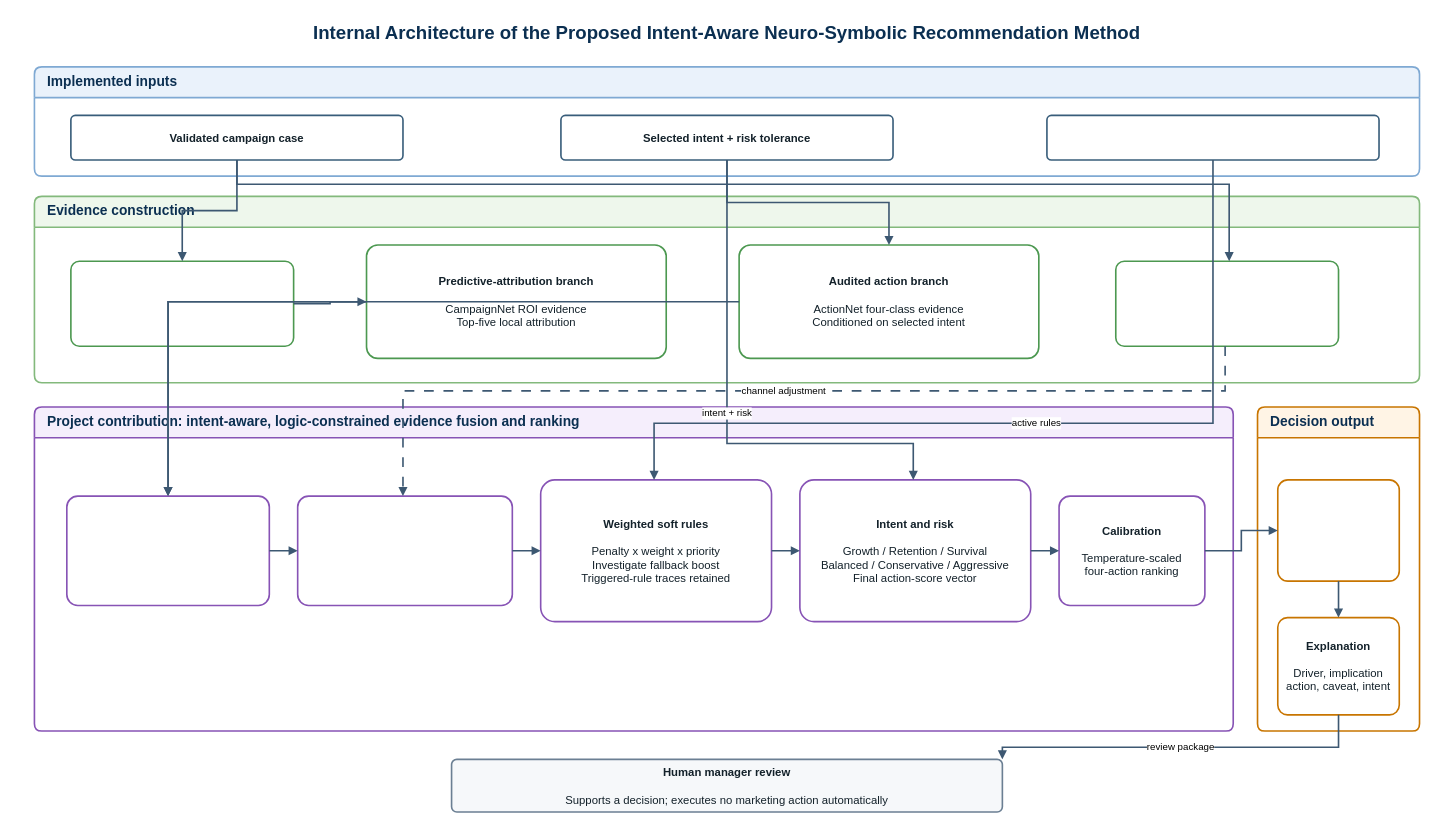
The diagram is 1453 pixels wide and 826 high, and some of its shapes have lost their labels. Each missing label, with the centre of its shape:
Active weighted rule catalogue: (1212,137)
Candidate scores Four bounded actions Smoothing + channel adjustment: (404,550)
Channel evidence Training-derived lookup: (1227,303)
Evidence fusion 0.25 predictive + 0.75 action: (168,550)
Feature builder 13 features and ratios: (182,303)
Ranked package Action, confidence alternatives, traces: (1338,530)
